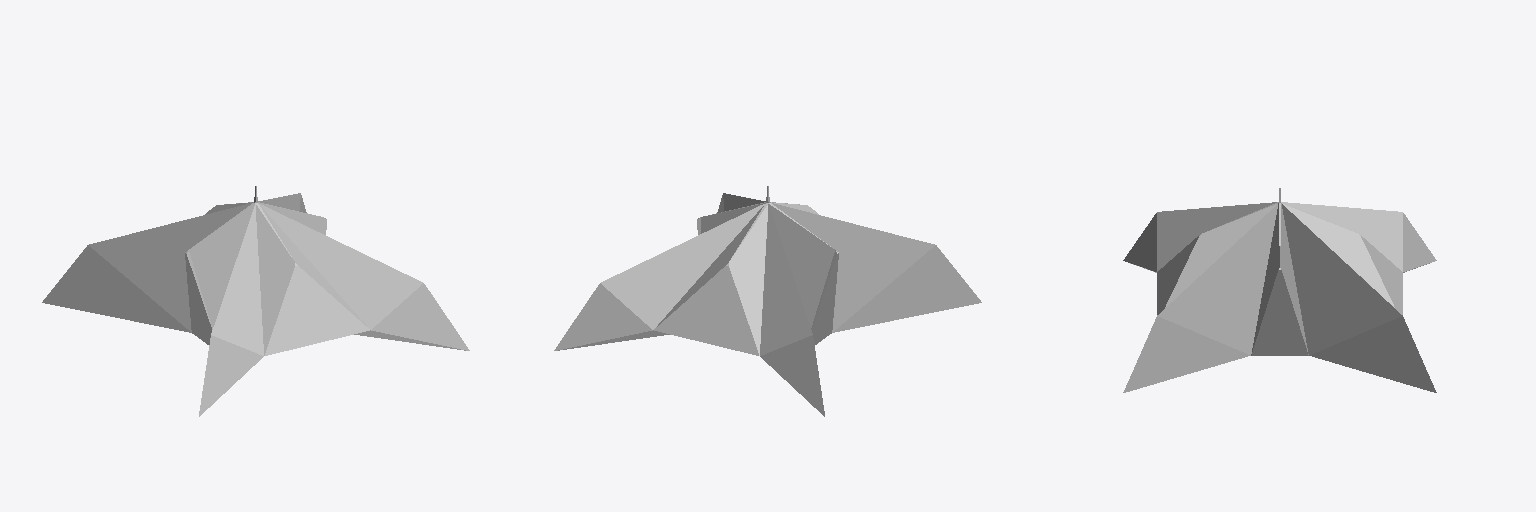
File: singlespike.obj
3 views of the same model, side by side, from view 1: azimuth 30°, elevation 25°; view 2: azimuth 150°, elevation 25°; view 3: azimuth 270°, elevation 25° (orthographic).
Parts seen in each view (by area): view 1: DoubleSpike_cube1_sep46; view 2: DoubleSpike_cube1_sep46; view 3: DoubleSpike_cube1_sep46.
Part boxes in pixels (left/top/right/bottom): DoubleSpike_cube1_sep46: left=42, top=186, right=469, bottom=416; DoubleSpike_cube1_sep46: left=554, top=186, right=981, bottom=416; DoubleSpike_cube1_sep46: left=1123, top=188, right=1436, bottom=392.
Size of the model in its own units: 2.17 by 1.15 by 2.17.